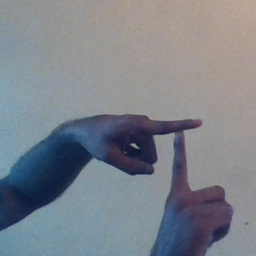T: (116, 96, 226, 213)
